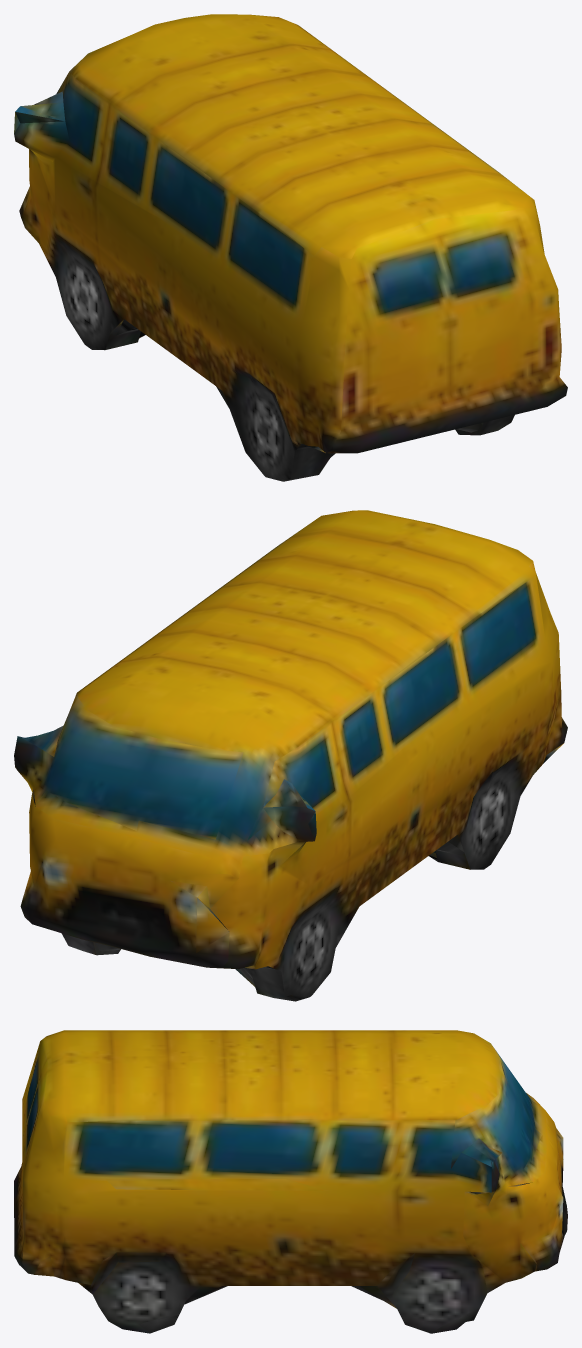
The model's file is uaz452_lod1.glb.
3 renders of one model, top to bottom at view 1: azimuth 30°, elevation 25°; view 2: azimuth 150°, elevation 25°; view 3: azimuth 270°, elevation 25°, orthographic. The views are drawn at different scales.
Parts seen in each view (by area): view 1: body; view 2: body; view 3: body.
Boxes of the visible parts, x1=… form: body: x1=14, y1=14, x2=567, y2=481; body: x1=14, y1=510, x2=567, y2=1001; body: x1=14, y1=1030, x2=567, y2=1333.
Size of the model in its own units: 2.25 by 2.04 by 4.36.
2 materials, 2 textured.
